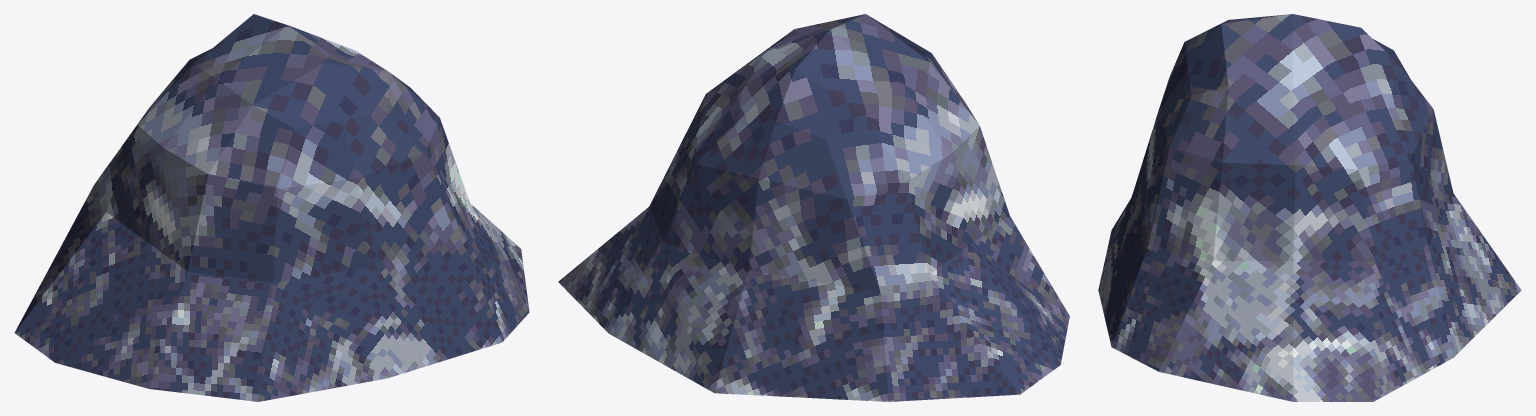
The model's file is polymer_pile.glb.
3 views of the same model, side by side, from view 1: azimuth 30°, elevation 25°; view 2: azimuth 150°, elevation 25°; view 3: azimuth 270°, elevation 25° (orthographic).
Visible parts, largest first — view 1: Cube; view 2: Cube; view 3: Cube.
Boxes of the visible parts, x1,y1,x2,y2 form: Cube: [14, 14, 529, 401]; Cube: [558, 14, 1069, 401]; Cube: [1098, 14, 1521, 401].
Bounding box in the file's own units: 0.397 × 0.2286 × 0.3174.
Materials: 1 (1 with a texture image).
